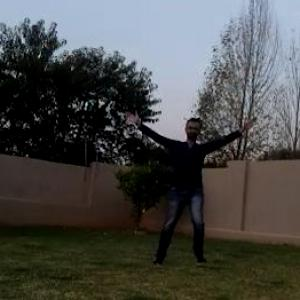takeoff: (117, 102, 243, 269)
